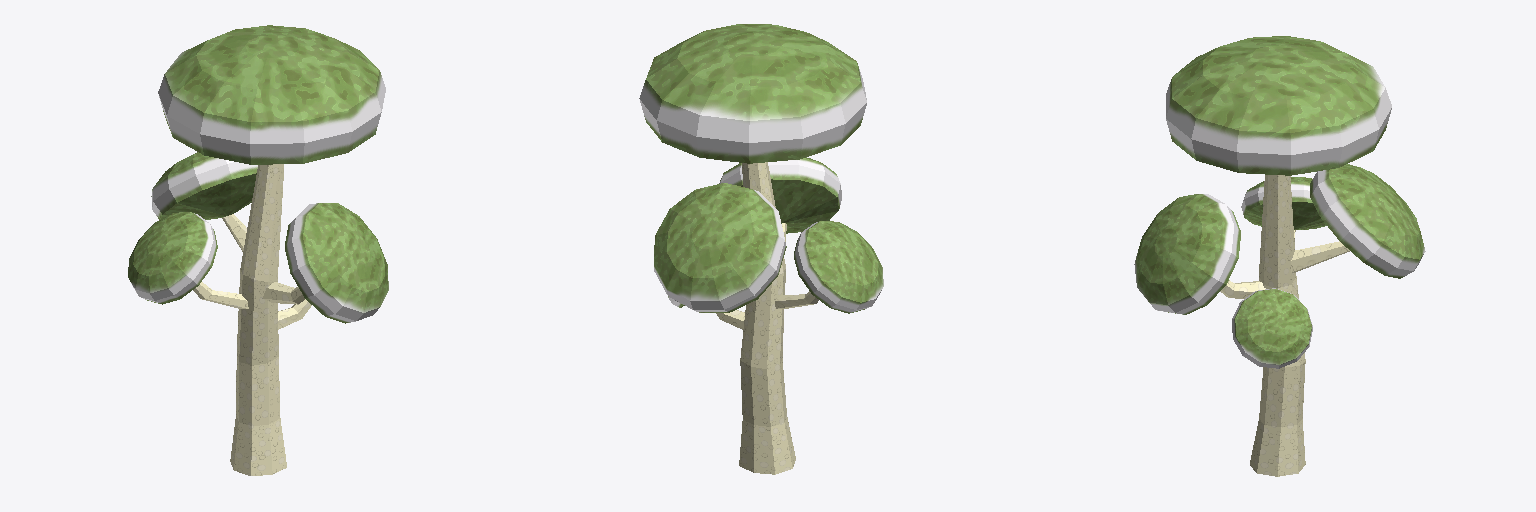
The picture shows the model from 3 angles: view 1: azimuth 30°, elevation 25°; view 2: azimuth 150°, elevation 25°; view 3: azimuth 270°, elevation 25°; orthographic projection.
Visible parts, largest first — view 1: tree1_1mesh_tree1mesh_tree1poly; view 2: tree1_1mesh_tree1mesh_tree1poly; view 3: tree1_1mesh_tree1mesh_tree1poly.
Boxes of the visible parts, box(x1,y1,x2,y2) form: tree1_1mesh_tree1mesh_tree1poly: box(128, 25, 388, 475); tree1_1mesh_tree1mesh_tree1poly: box(639, 24, 883, 474); tree1_1mesh_tree1mesh_tree1poly: box(1134, 36, 1425, 476).
Size of the model in its own units: 1.6 by 2.78 by 1.77.
Materials: 1 (1 with a texture image).